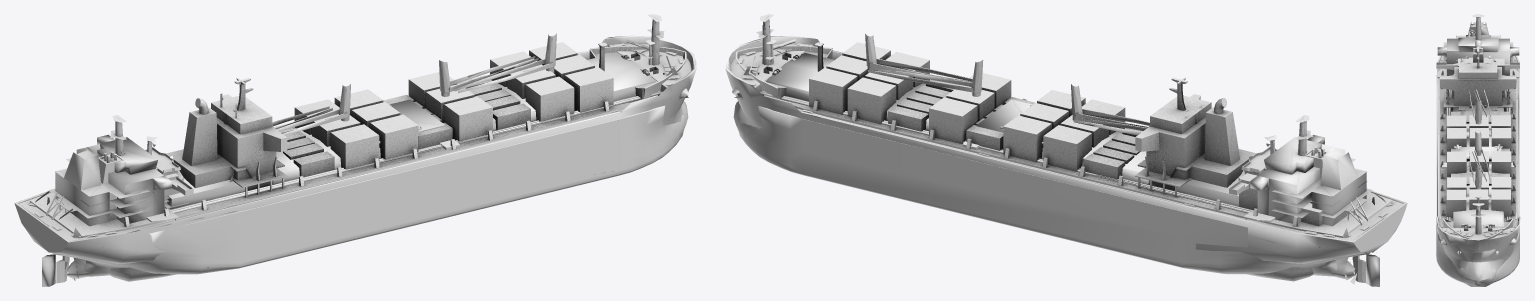
File: ship.glb
3 renders of one model, left to right at view 1: azimuth 30°, elevation 25°; view 2: azimuth 150°, elevation 25°; view 3: azimuth 270°, elevation 25°, orthographic. The views are drawn at different scales.
Visible parts, largest first — view 1: Ship1, Ship2, Ship3; view 2: Ship1, Ship2, Ship3; view 3: Ship1, Ship3, Ship2.
Boxes of the visible parts, x1,y1,x2,y2 form: Ship1: (29,42,686,281); Ship2: (46,39,688,283); Ship3: (14,14,696,286); Ship1: (735,42,1392,281); Ship2: (732,39,1370,282); Ship3: (725,14,1407,286); Ship1: (1440,40,1516,286); Ship3: (1436,14,1520,286); Ship2: (1436,30,1519,284).
Bounding box in the file's own units: 0.5739 × 0.1349 × 0.1006.
3 materials, 3 textured.
